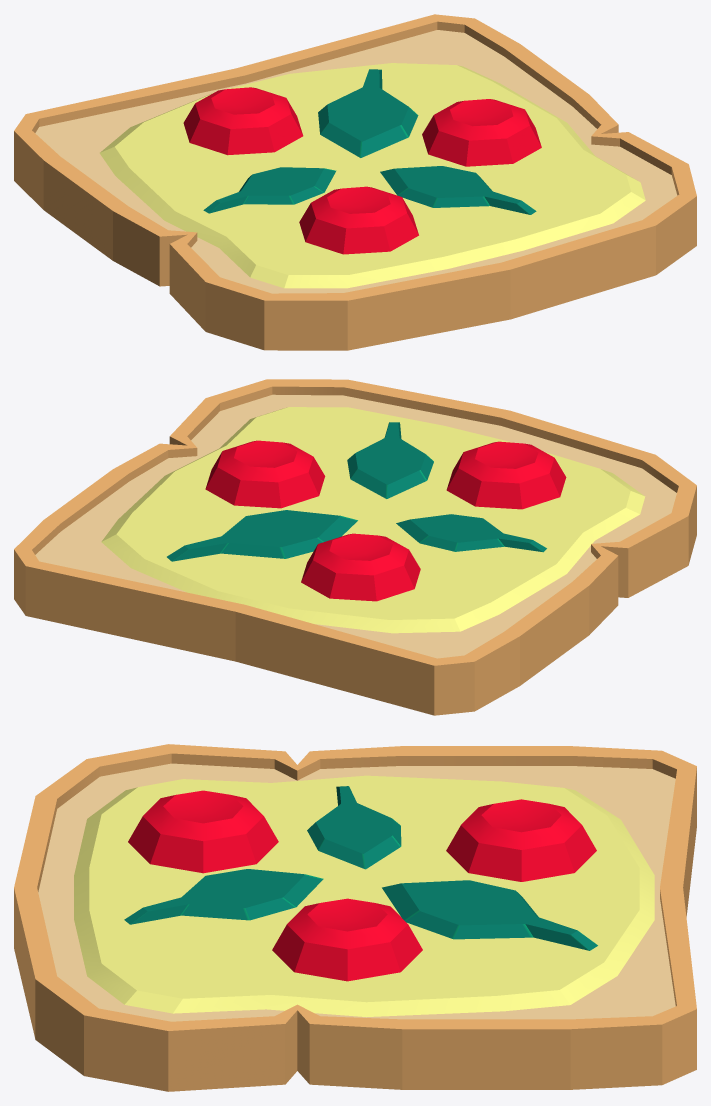
File: PW_frenchtoas_cherry_tomato.fbx
3 views of the same model, one above another, from view 1: azimuth 30°, elevation 25°; view 2: azimuth 150°, elevation 25°; view 3: azimuth 270°, elevation 25° (orthographic). The views are drawn at different scales.
Parts seen in each view (by area): view 1: bread, cheese, tomatoes, mint; view 2: bread, cheese, tomatoes, mint; view 3: bread, cheese, tomatoes, mint.
Part boxes in pixels (box(x1,y1,x2,y2)): bread: box(14, 14, 696, 350); cheese: box(99, 63, 645, 288); tomatoes: box(183, 87, 541, 254); mint: box(203, 69, 536, 214); bread: box(14, 379, 696, 715); cheese: box(101, 407, 645, 633); tomatoes: box(205, 440, 566, 601); mint: box(167, 422, 546, 561); bread: box(14, 744, 696, 1091); cheese: box(74, 775, 654, 1017); tomatoes: box(128, 790, 596, 981); mint: box(124, 786, 597, 950).
Size of the model in its own units: 34.12 by 5.43 by 34.32.
1 material, 1 textured.
